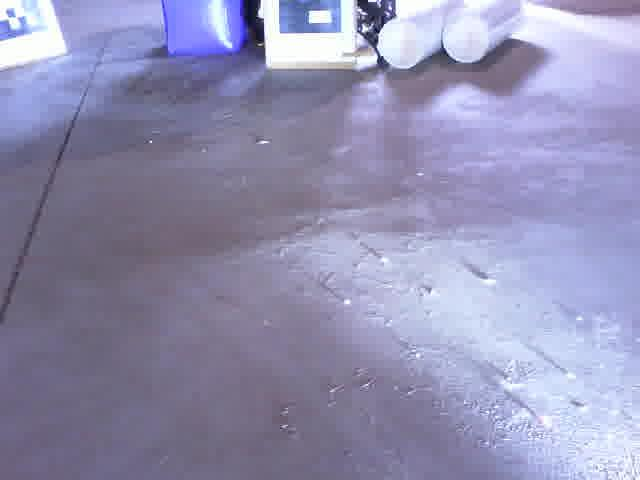coral: (376, 0, 470, 75), (441, 0, 526, 65)
